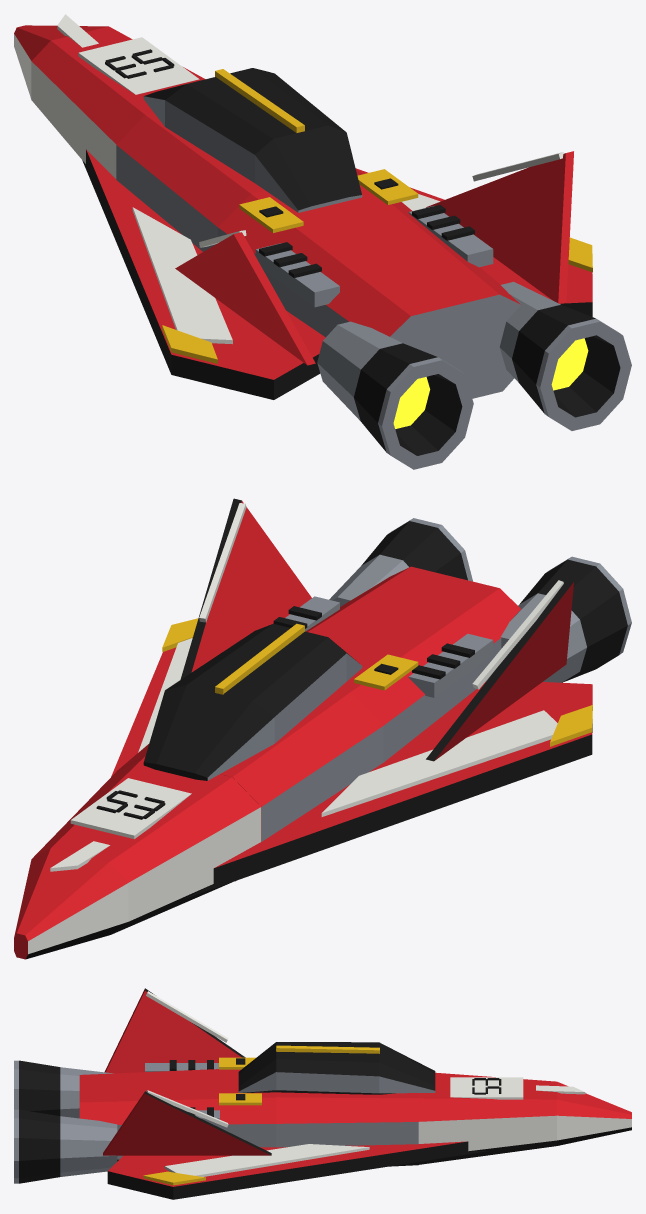
Rendered from hull-tengu-78145fa8.glb.
The picture shows the model from 3 angles, top to bottom: view 1: azimuth 30°, elevation 25°; view 2: azimuth 150°, elevation 25°; view 3: azimuth 270°, elevation 25°; orthographic projection. The views are drawn at different scales.
Visible parts, largest first — view 1: hull-tengu_body, engine_rear_1, engine_rear_-1, nose_forward; view 2: hull-tengu_body, nose_forward, engine_rear_1, engine_rear_-1; view 3: hull-tengu_body, nose_forward, engine_rear_-1, engine_rear_1.
Boxes of the visible parts, box(x1,y1,x2,y2) form: hull-tengu_body: box(57, 14, 592, 399); engine_rear_1: box(317, 321, 473, 469); engine_rear_-1: box(499, 281, 631, 430); nose_forward: box(14, 25, 205, 178); hull-tengu_body: box(50, 498, 592, 899); nose_forward: box(14, 756, 261, 959); engine_rear_1: box(501, 556, 631, 682); engine_rear_-1: box(329, 518, 472, 606); hull-tengu_body: box(79, 988, 585, 1199); nose_forward: box(418, 1072, 631, 1164); engine_rear_-1: box(14, 1109, 117, 1183); engine_rear_1: box(14, 1060, 113, 1118).
Size of the model in its own units: 3.3 by 1.35 by 6.6.
